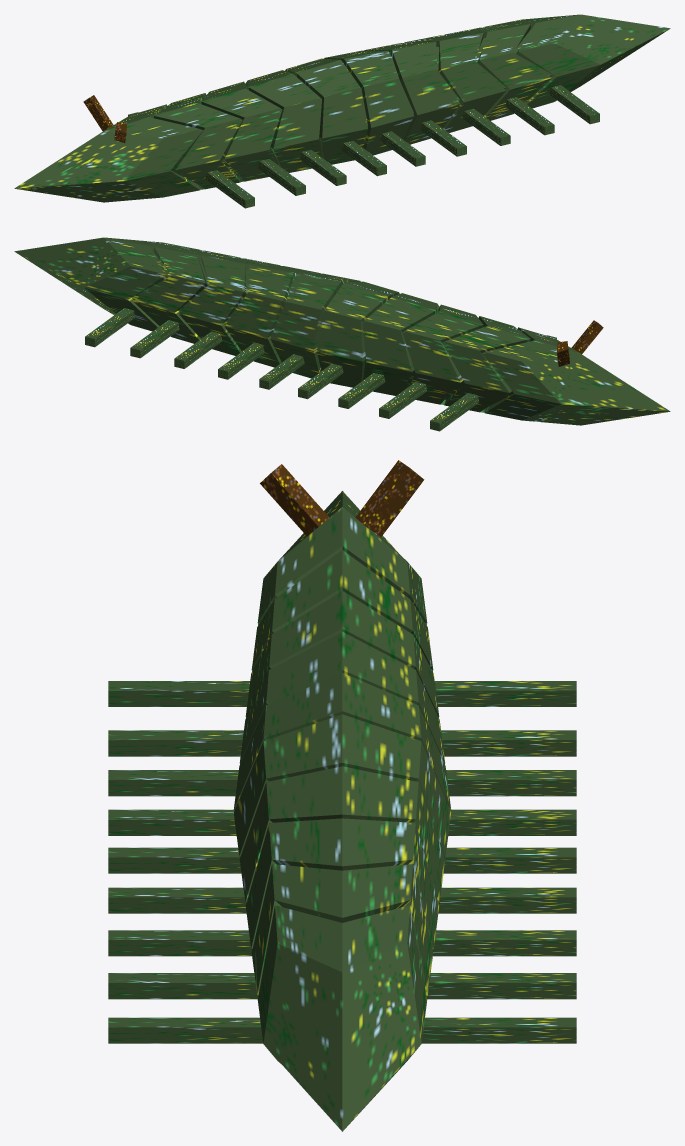
Rendered from mnogonozhka.glb.
3 views of the same model, one above another, from view 1: azimuth 30°, elevation 25°; view 2: azimuth 150°, elevation 25°; view 3: azimuth 270°, elevation 25° (orthographic). The views are drawn at different scales.
Visible parts, largest first — view 1: Cube; view 2: Cube; view 3: Cube.
Part boxes in pixels (box(x1,y1,x2,y2)): Cube: box(14, 14, 670, 208); Cube: box(14, 237, 670, 431); Cube: box(108, 460, 576, 1131).
Bounding box in the file's own units: 0.8769 × 0.1381 × 0.2706.
1 material, 1 textured.
